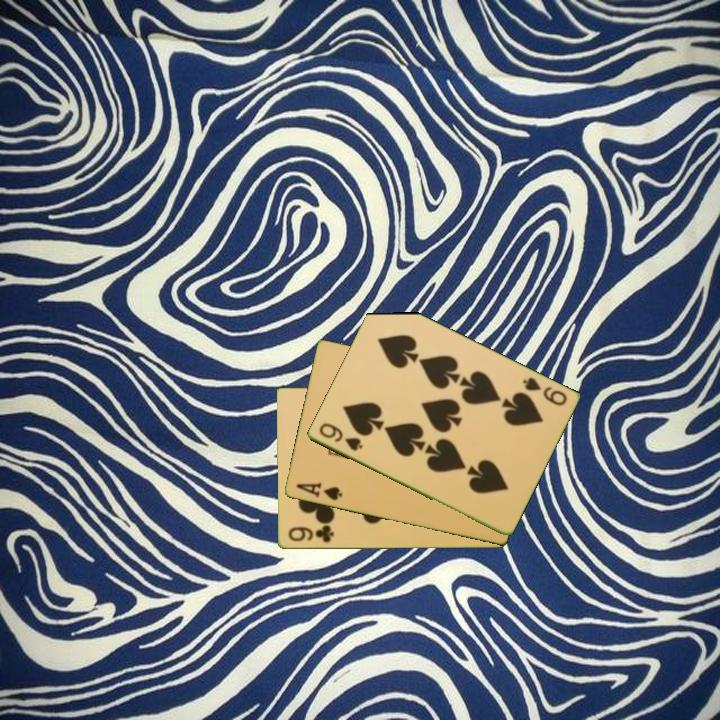9c: (285, 522, 336, 545)
9s: (519, 373, 570, 409), (315, 419, 365, 454)
As: (292, 479, 345, 504)
